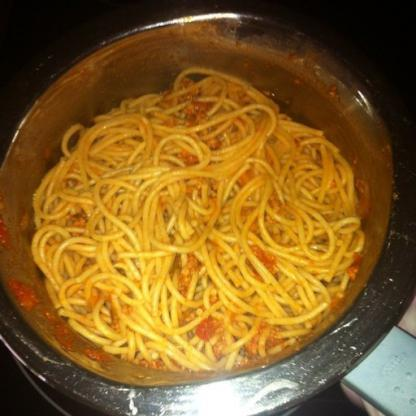pasta: (39, 76, 364, 373)
